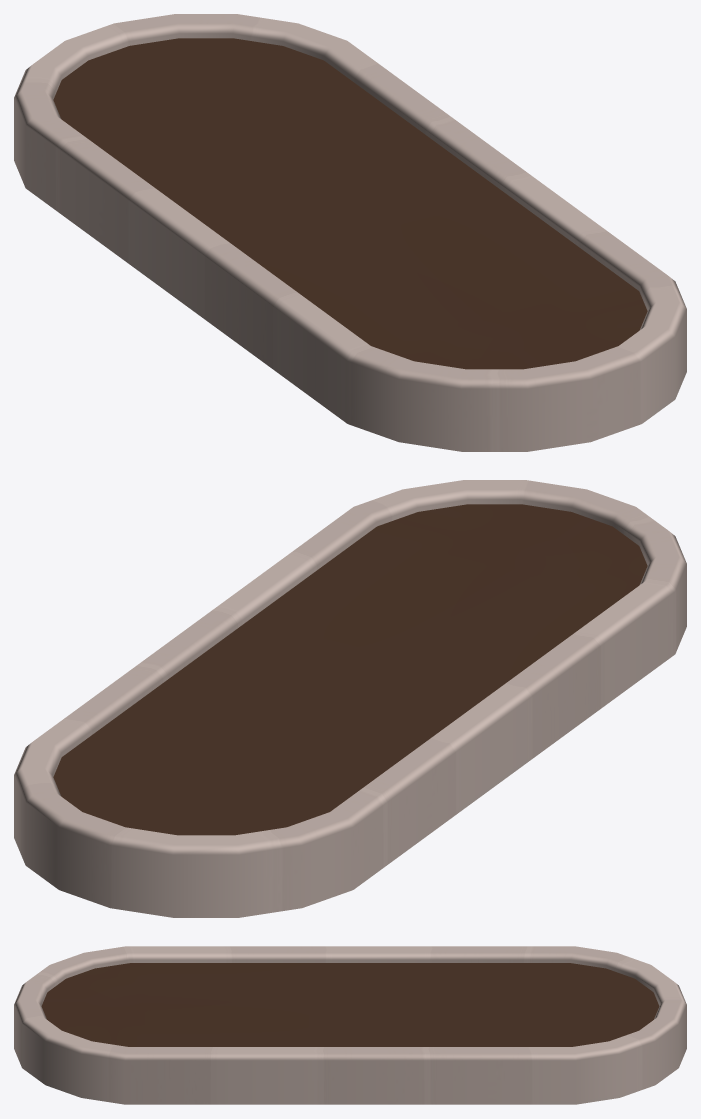
File: GardenBed_LongRounded_5m.fbx
3 renders of one model, top to bottom at view 1: azimuth 30°, elevation 25°; view 2: azimuth 150°, elevation 25°; view 3: azimuth 270°, elevation 25°, orthographic. The views are drawn at different scales.
Visible parts, largest first — view 1: GardenBed_LongRounded_5m; view 2: GardenBed_LongRounded_5m; view 3: GardenBed_LongRounded_5m.
Part boxes in pixels (x1,y1,x2,y2): GardenBed_LongRounded_5m: (14,14,686,451); GardenBed_LongRounded_5m: (14,480,686,917); GardenBed_LongRounded_5m: (14,946,686,1104).
Size of the model in its own units: 197 by 40 by 500.
